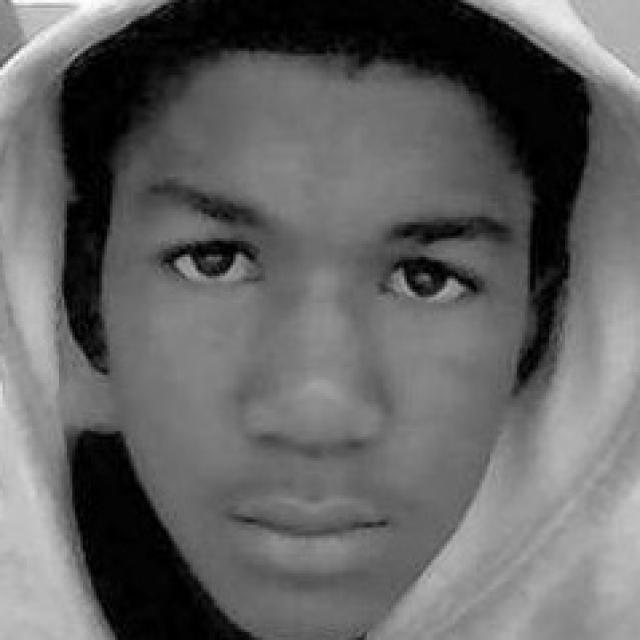Depress: (98, 57, 535, 637)
